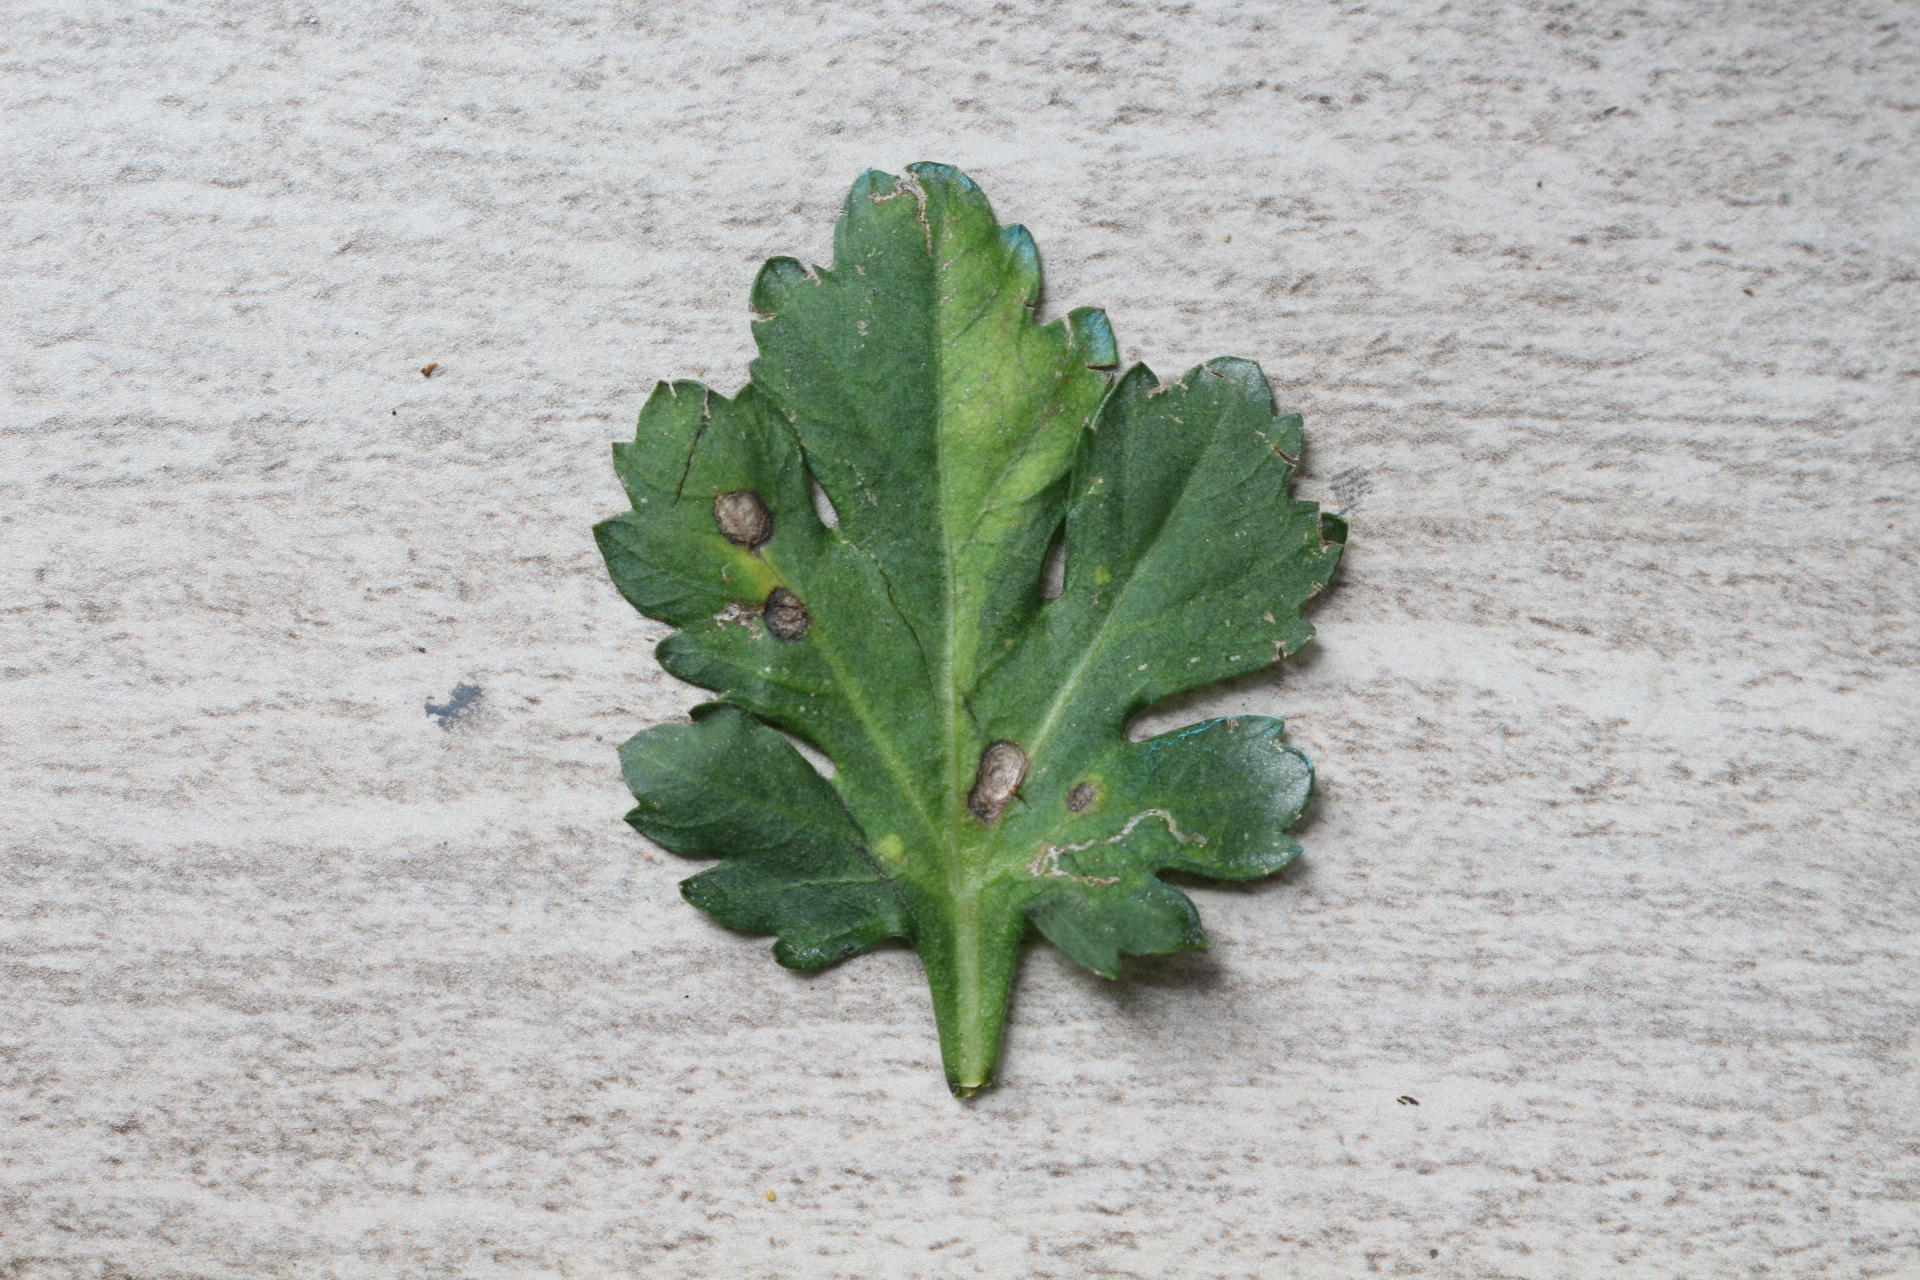namden: (709, 483, 776, 556), (969, 739, 1029, 819), (753, 586, 823, 647), (1063, 777, 1099, 817)
